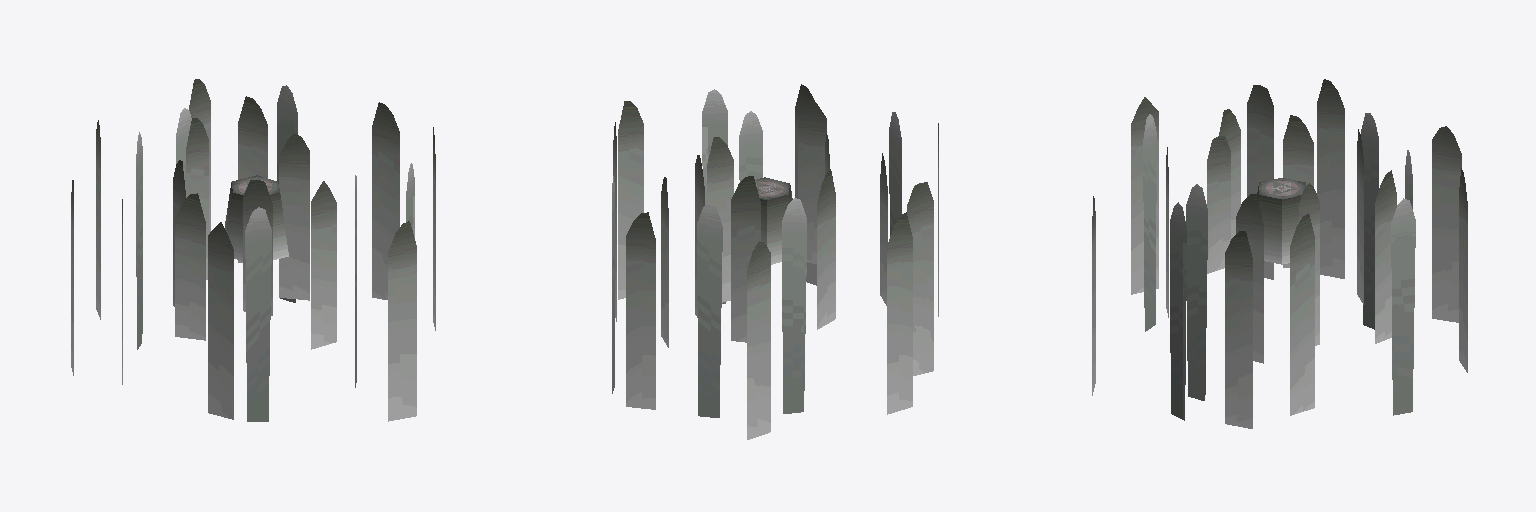
3 views of the same model, side by side, from view 1: azimuth 30°, elevation 25°; view 2: azimuth 150°, elevation 25°; view 3: azimuth 270°, elevation 25° (orthographic).
Parts seen in each view (by area): view 1: Cube.008, Cube.000_Cube.014, Cube.011_Cube.012, Cube.013_Cube.000; view 2: Cube.000_Cube.014, Cube.008, Cube.011_Cube.012, Cube.013_Cube.000, Cube.001_Cube.003; view 3: Cube.000_Cube.014, Cube.011_Cube.012, Cube.008, Cube.013_Cube.000, Cube.001_Cube.003.
Boxes of the visible parts, <box> form: Cube.008: <box>173,96,336,349</box>; Cube.000_Cube.014: <box>71,79,435,421</box>; Cube.011_Cube.012: <box>136,85,414,421</box>; Cube.013_Cube.000: <box>225,183,288,260</box>; Cube.000_Cube.014: <box>613,84,938,439</box>; Cube.008: <box>661,98,887,347</box>; Cube.011_Cube.012: <box>612,89,901,417</box>; Cube.013_Cube.000: <box>760,185,792,264</box>; Cube.001_Cube.003: <box>755,177,789,199</box>; Cube.000_Cube.014: <box>1092,79,1467,428</box>; Cube.011_Cube.012: <box>1143,113,1415,420</box>; Cube.008: <box>1166,109,1396,363</box>; Cube.013_Cube.000: <box>1257,186,1301,264</box>; Cube.001_Cube.003: <box>1259,178,1305,199</box>.
Bounding box in the file's own units: 15.31 × 10.29 × 15.25.
4 materials, 3 textured.